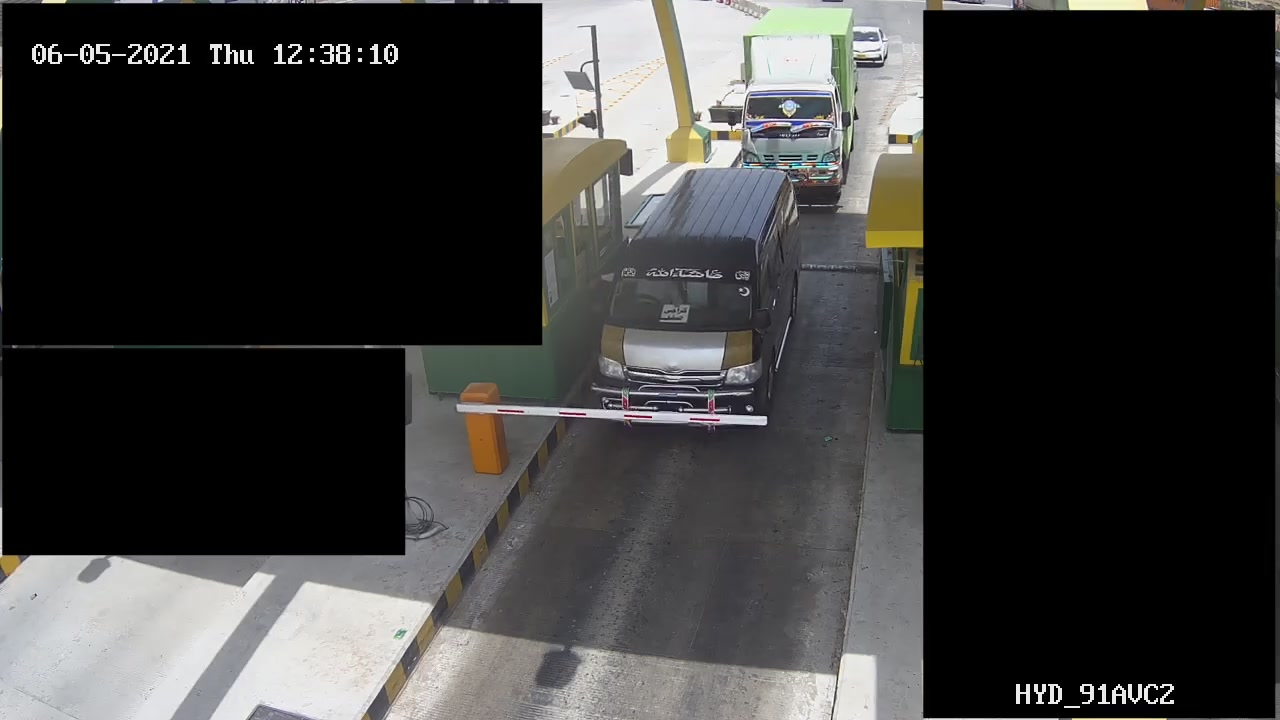F2: (591, 162, 809, 424)
